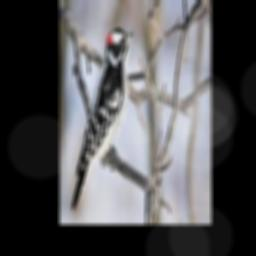Woodpecker: (71, 28, 135, 212)
